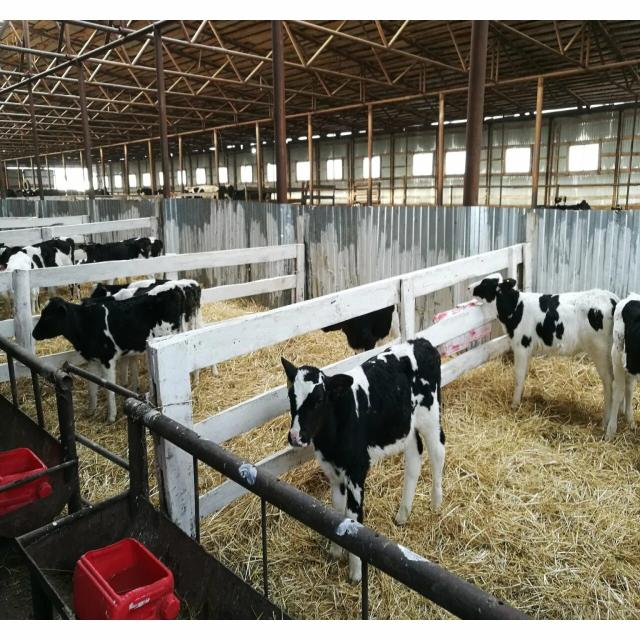cow: (280, 336, 446, 586), (470, 274, 624, 441), (31, 278, 204, 424), (0, 236, 80, 316), (603, 291, 639, 441), (74, 236, 164, 296)
